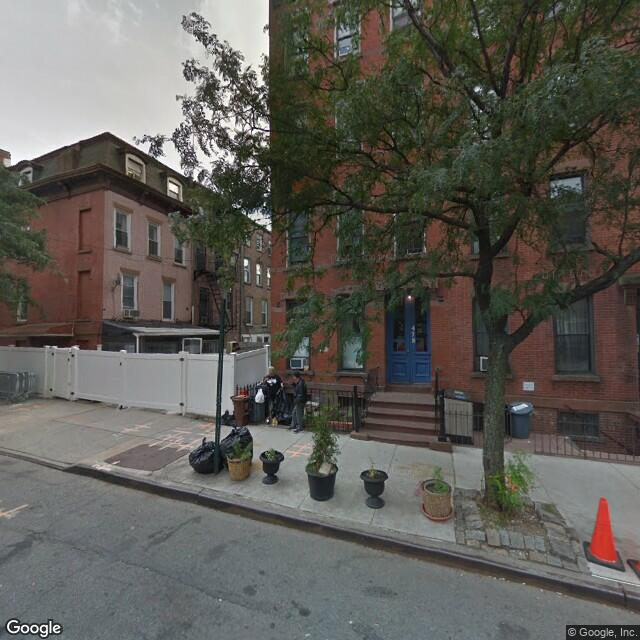litter: (188, 425, 262, 476)
